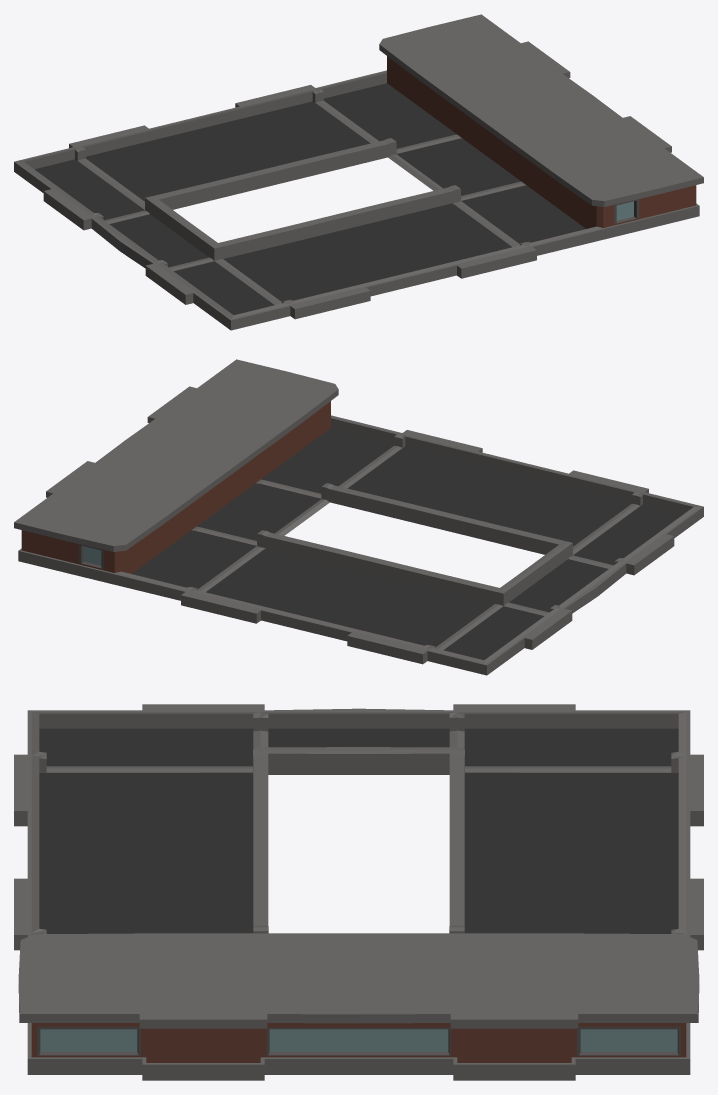
Rendered from Garage_Top_S1.fbx.
3 views of the same model, one above another, from view 1: azimuth 30°, elevation 25°; view 2: azimuth 150°, elevation 25°; view 3: azimuth 270°, elevation 25° (orthographic). The views are drawn at different scales.
Parts seen in each view (by area): view 1: Garage_Top; view 2: Garage_Top; view 3: Garage_Top.
Boxes of the visible parts, x1,y1,x2,y2 form: Garage_Top: (14,14,703,330); Garage_Top: (14,359,703,675); Garage_Top: (14,704,703,1080).
Size of the model in its own units: 7321 by 585 by 5902.
